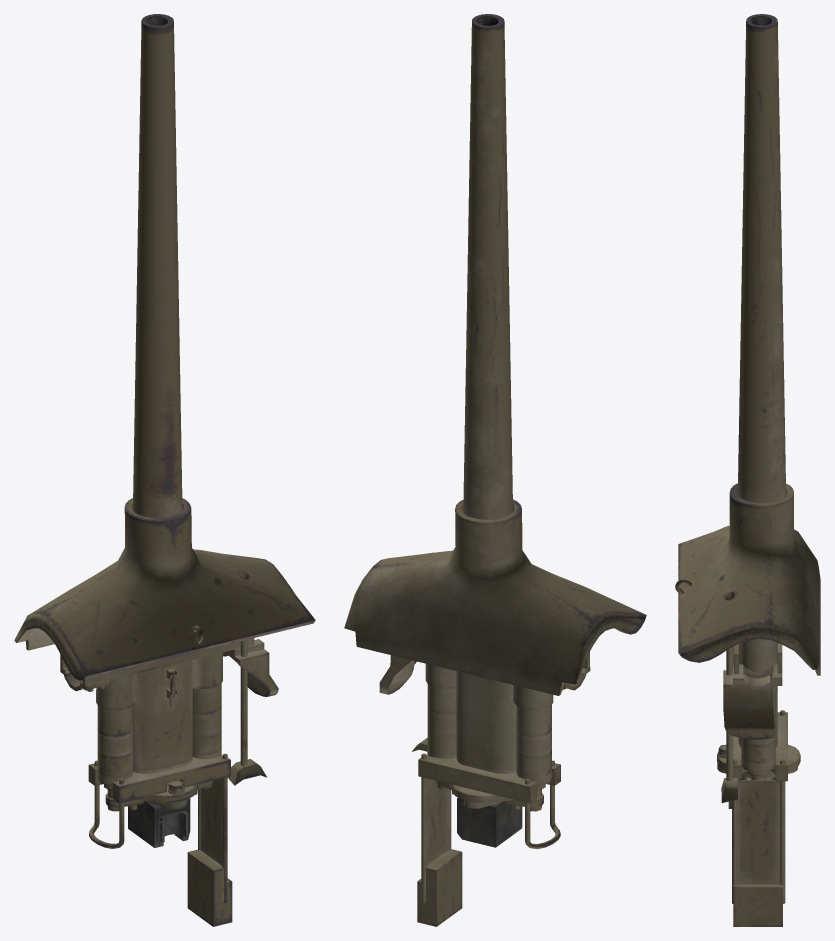
Rendered from Gun_07.glb.
The picture shows the model from 3 angles, left to right: view 1: azimuth 30°, elevation 25°; view 2: azimuth 150°, elevation 25°; view 3: azimuth 270°, elevation 25°; orthographic projection. The views are drawn at different scales.
Visible parts, largest first — view 1: set_0_group_0; view 2: set_0_group_0; view 3: set_0_group_0.
Part boxes in pixels (x1,y1,x2,y2): set_0_group_0: (14,14,315,926); set_0_group_0: (344,14,646,926); set_0_group_0: (675,14,820,926).
Bounding box in the file's own units: 0.945 × 3.56 × 0.5343.
1 material, 1 textured.
